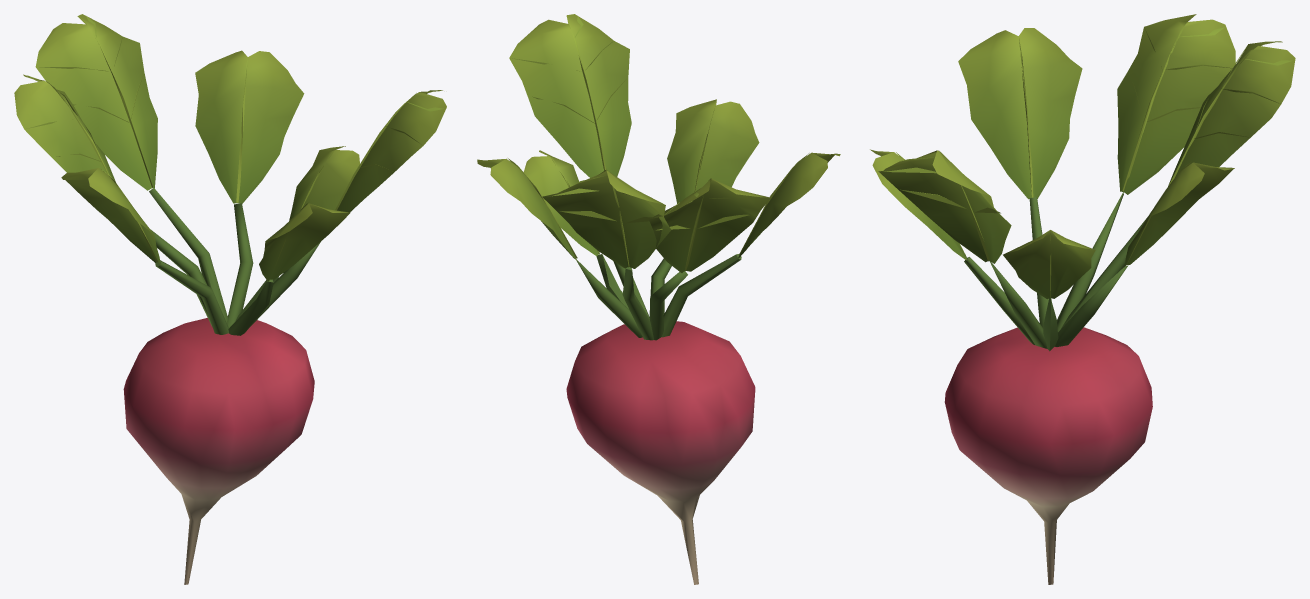
The model's file is radish.glb.
3 views of the same model, side by side, from view 1: azimuth 30°, elevation 25°; view 2: azimuth 150°, elevation 25°; view 3: azimuth 270°, elevation 25° (orthographic). The views are drawn at different scales.
Visible parts, largest first — view 1: Plant; view 2: Plant; view 3: Plant.
Boxes of the visible parts, box(x1,y1,x2,y2) form: Plant: box(14, 14, 446, 584); Plant: box(477, 14, 840, 584); Plant: box(870, 14, 1295, 584).
Bounding box in the file's own units: 0.3315 × 0.4527 × 0.3255.
